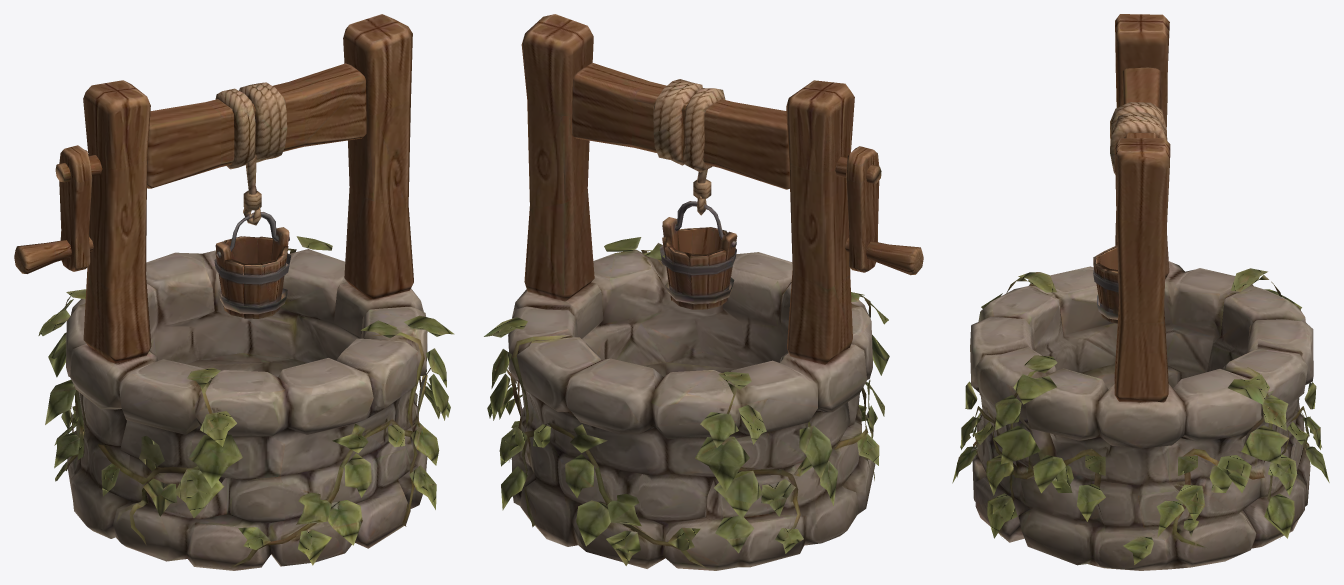
Rendered from well.glb.
3 views of the same model, side by side, from view 1: azimuth 30°, elevation 25°; view 2: azimuth 150°, elevation 25°; view 3: azimuth 270°, elevation 25° (orthographic). The views are drawn at different scales.
Size of the model in its own units: 0.9585 by 1 by 0.8141.
1 material, 1 textured.
